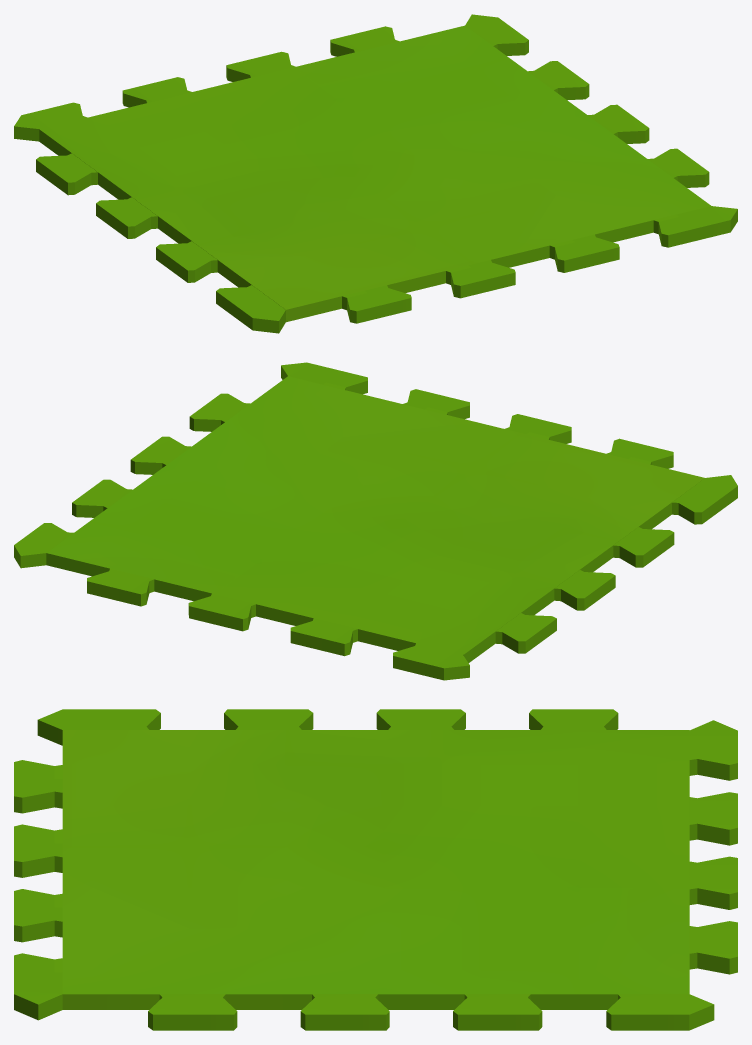
Rendered from PuzzleMatGreen.fbx.
The picture shows the model from 3 angles, top to bottom: view 1: azimuth 30°, elevation 25°; view 2: azimuth 150°, elevation 25°; view 3: azimuth 270°, elevation 25°; orthographic projection. The views are drawn at different scales.
Visible parts, largest first — view 1: Cube; view 2: Cube; view 3: Cube.
Part boxes in pixels (bbox=[...]): Cube: bbox=[14, 14, 737, 333]; Cube: bbox=[14, 362, 737, 680]; Cube: bbox=[14, 709, 737, 1030].
Size of the model in its own units: 9.48 by 0.2291 by 9.5.
